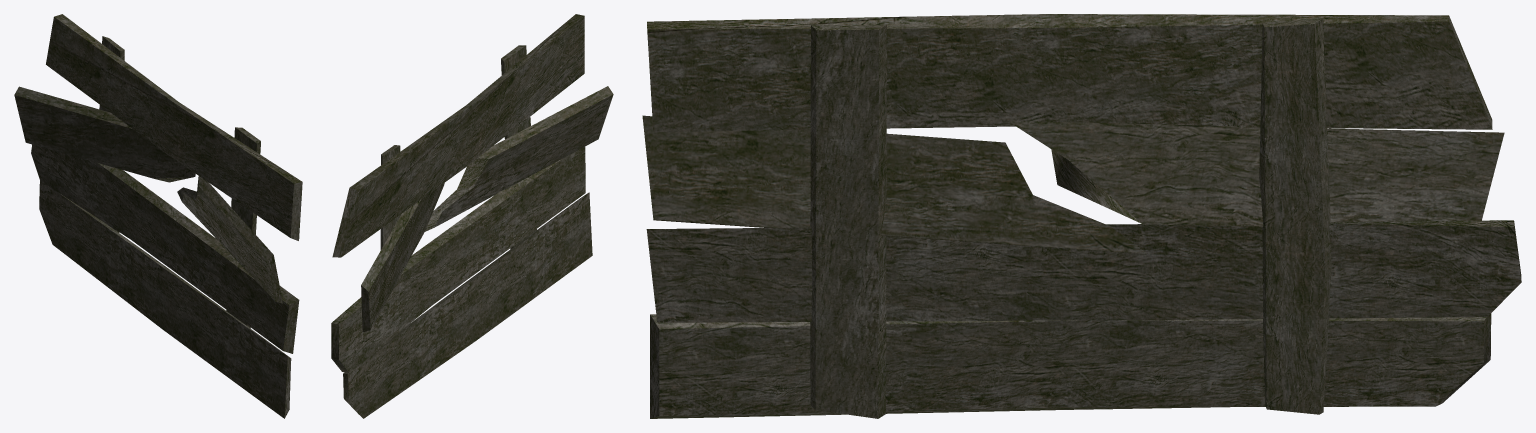
File: TI_Door_02.fbx
3 views of the same model, side by side, from view 1: azimuth 30°, elevation 25°; view 2: azimuth 150°, elevation 25°; view 3: azimuth 270°, elevation 25° (orthographic). The views are drawn at different scales.
Parts seen in each view (by area): view 1: TI_Door_02; view 2: TI_Door_02; view 3: TI_Door_02.
Boxes of the visible parts, bbox=[...] form: TI_Door_02: bbox=[14, 14, 302, 418]; TI_Door_02: bbox=[331, 14, 613, 418]; TI_Door_02: bbox=[642, 14, 1521, 418].
Size of the model in its own units: 0.3733 by 1.36 by 2.63.
